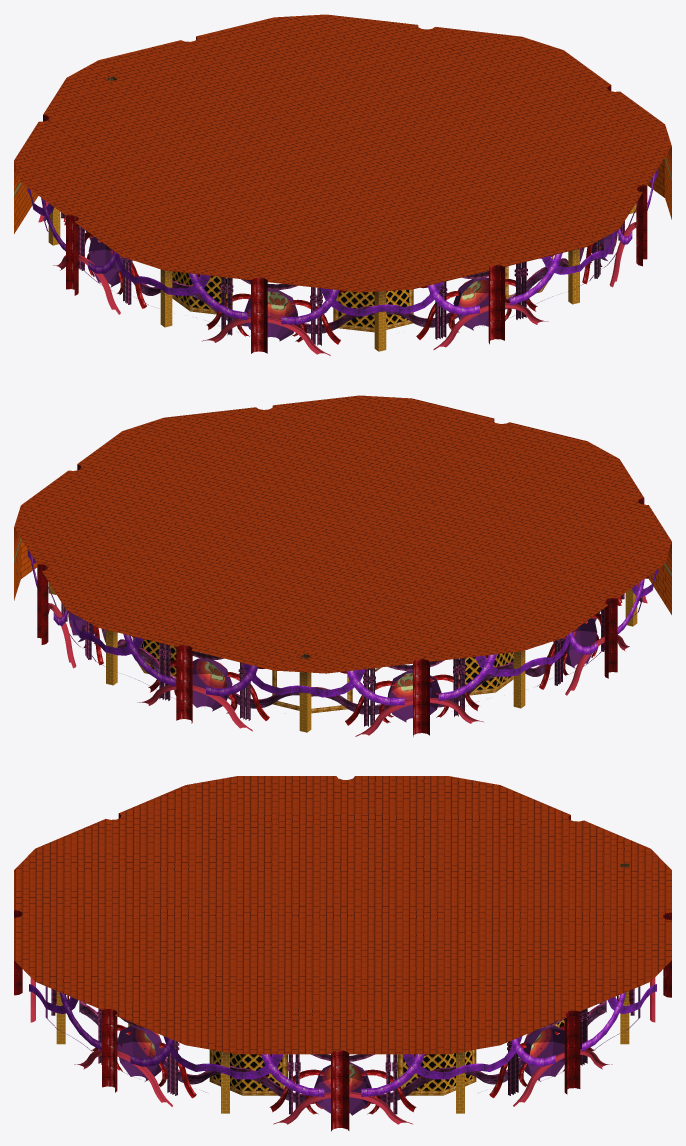
3 renders of one model, top to bottom at view 1: azimuth 30°, elevation 25°; view 2: azimuth 150°, elevation 25°; view 3: azimuth 270°, elevation 25°, orthographic. The views are drawn at different scales.
Visible parts, largest first — view 1: bc4reboot_Main_ceiling, bc4reboot_Main_redpipe, bc4reboot_Main_gener1, bc4reboot_Main_purplepipe, bc4reboot_Main_piping, bc4reboot_Main_bgpillar, bc4reboot_Main_goldgrate, bc4reboot_Main_bgwall, bc4reboot_Main_goldpipe; view 2: bc4reboot_Main_ceiling, bc4reboot_Main_redpipe, bc4reboot_Main_gener1, bc4reboot_Main_purplepipe, bc4reboot_Main_piping, bc4reboot_Main_bgpillar, bc4reboot_Main_bgwall, bc4reboot_Main_goldgrate, bc4reboot_Main_goldpipe; view 3: bc4reboot_Main_ceiling, bc4reboot_Main_gener1, bc4reboot_Main_redpipe, bc4reboot_Main_purplepipe, bc4reboot_Main_piping, bc4reboot_Main_goldgrate, bc4reboot_Main_bgpillar, bc4reboot_Main_goldpipe.
Part boxes in pixels (box(x1,y1,x2,y2)): bc4reboot_Main_ceiling: box(14, 14, 671, 292); bc4reboot_Main_redpipe: box(43, 36, 647, 353); bc4reboot_Main_gener1: box(38, 201, 636, 355); bc4reboot_Main_purplepipe: box(27, 168, 658, 324); bc4reboot_Main_piping: box(61, 212, 624, 345); bc4reboot_Main_bgpillar: box(48, 76, 636, 351); bc4reboot_Main_goldgrate: box(172, 271, 408, 327); bc4reboot_Main_bgwall: box(14, 147, 671, 233); bc4reboot_Main_goldpipe: box(172, 256, 553, 332); bc4reboot_Main_ceiling: box(14, 395, 671, 673); bc4reboot_Main_redpipe: box(37, 419, 648, 736); bc4reboot_Main_gener1: box(48, 582, 647, 736); bc4reboot_Main_purplepipe: box(27, 549, 658, 705); bc4reboot_Main_piping: box(61, 593, 624, 726); bc4reboot_Main_bgpillar: box(48, 582, 637, 732); bc4reboot_Main_bgwall: box(14, 528, 671, 614); bc4reboot_Main_goldgrate: box(134, 638, 513, 690); bc4reboot_Main_goldpipe: box(132, 637, 513, 713); bc4reboot_Main_ceiling: box(14, 776, 671, 1054); bc4reboot_Main_gener1: box(30, 977, 655, 1124); bc4reboot_Main_redpipe: box(14, 813, 671, 1131); bc4reboot_Main_purplepipe: box(29, 984, 656, 1096); bc4reboot_Main_piping: box(51, 988, 634, 1114); bc4reboot_Main_goldgrate: box(213, 1019, 564, 1090); bc4reboot_Main_bgpillar: box(56, 863, 629, 1113); bc4reboot_Main_goldpipe: box(128, 1023, 557, 1095).
Size of the model in its own units: 199626 by 25975 by 199626.
35 materials, 35 textured.
